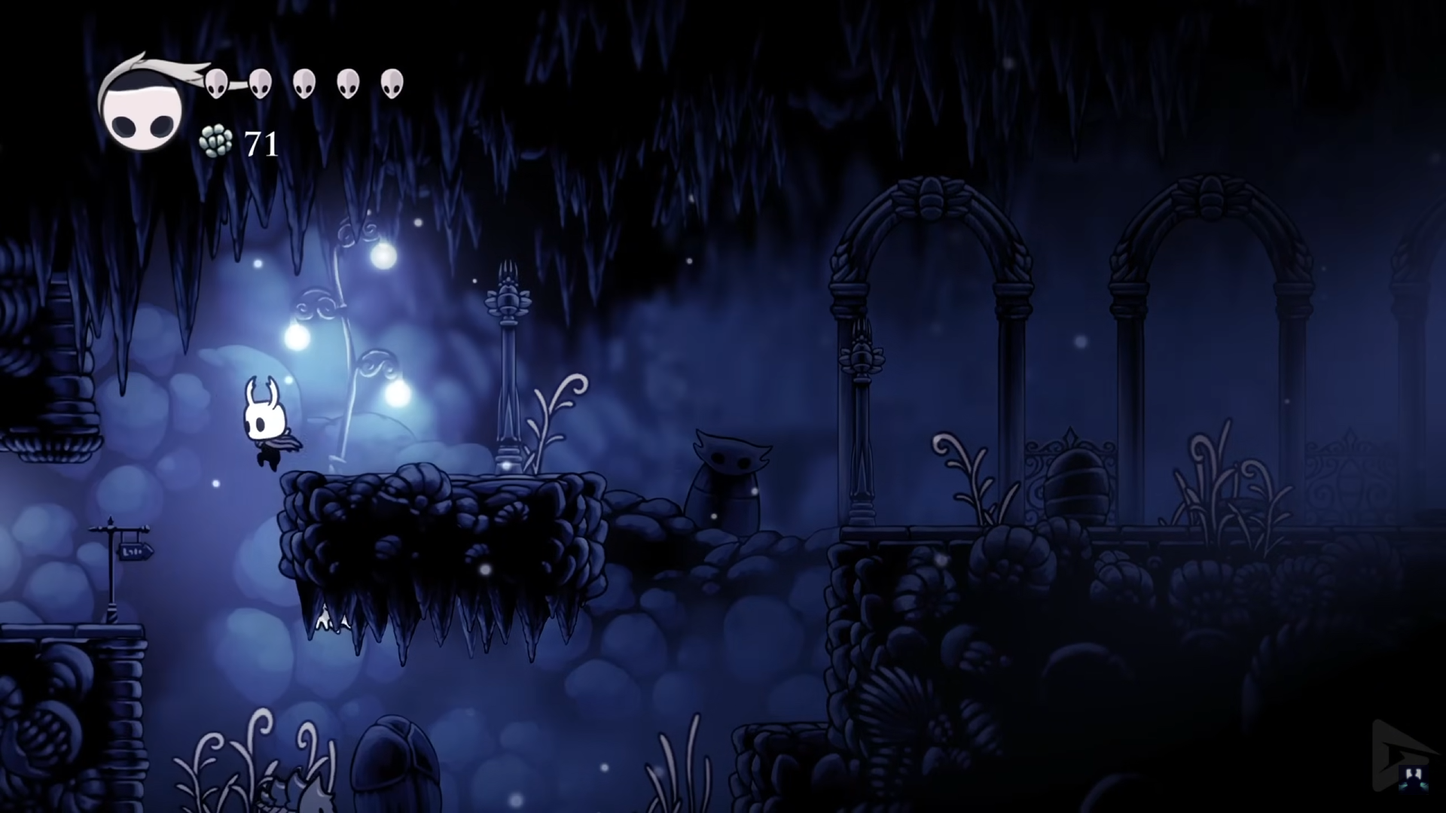HK: (238, 370, 299, 473)
